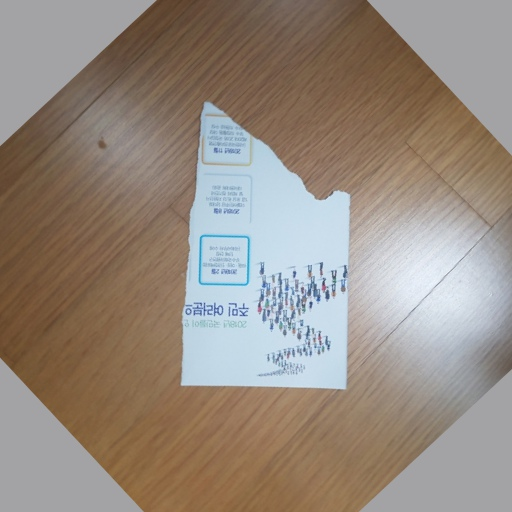Paper_2: (182, 175, 392, 434)
